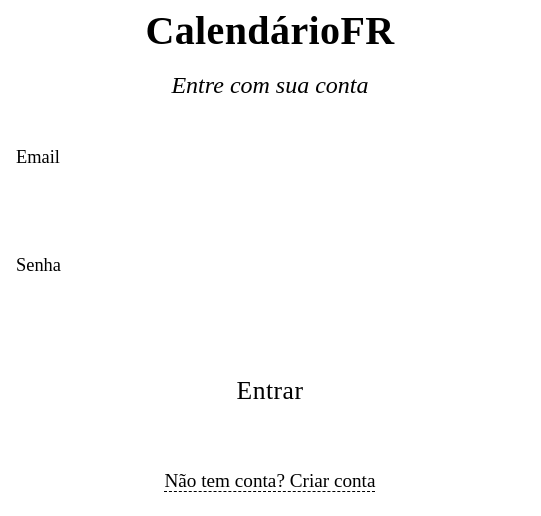
AuthPage › toggles to signup mode
Click the button "Não tem conta? Criar conta". click: (270,481)
box: [164,463,376,499]
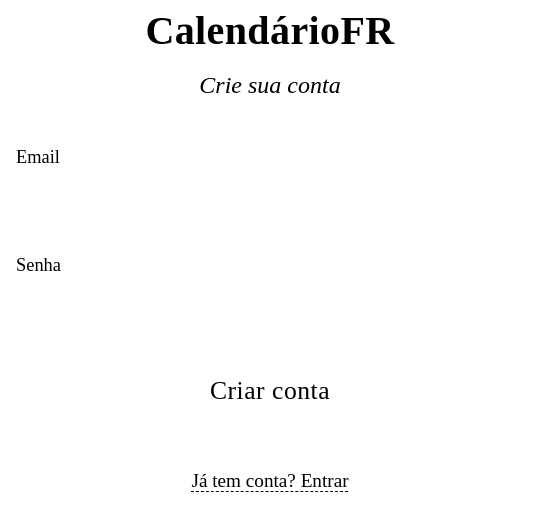
Check: the button "Criar conta" is shown, box [16,355,524,427]
